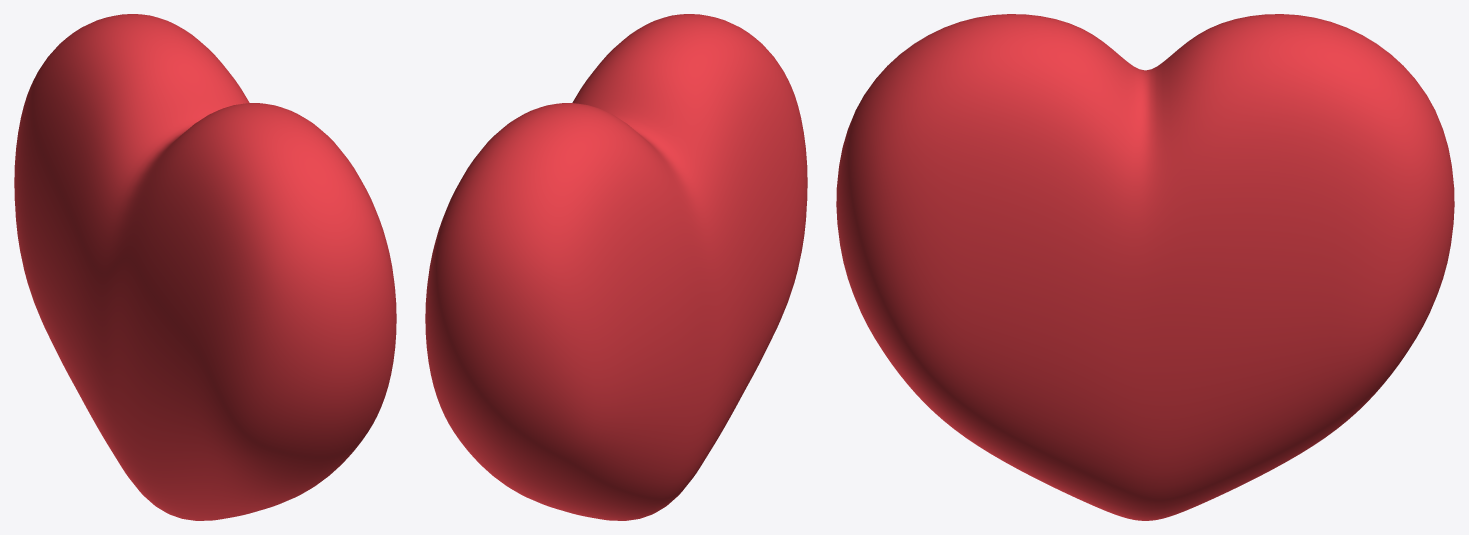
File: Taro-heart.glb
The picture shows the model from 3 angles, left to right: view 1: azimuth 30°, elevation 25°; view 2: azimuth 150°, elevation 25°; view 3: azimuth 270°, elevation 25°; orthographic projection. The views are drawn at different scales.
Parts seen in each view (by area): view 1: One Herts; view 2: One Herts; view 3: One Herts.
Part boxes in pixels (bbox=[...]): One Herts: bbox=[14, 14, 396, 520]; One Herts: bbox=[425, 14, 807, 520]; One Herts: bbox=[836, 14, 1454, 520].
Bounding box in the file's own units: 0.4055 × 0.8951 × 1.03.
